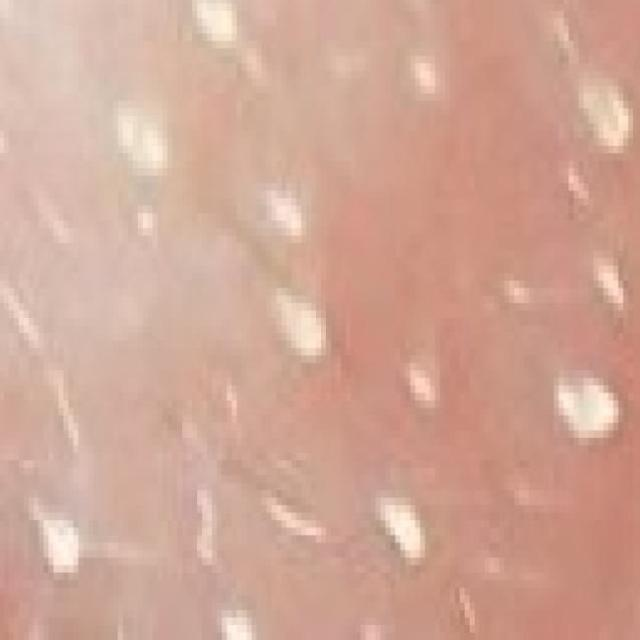whitehead: (9, 0, 640, 640)
